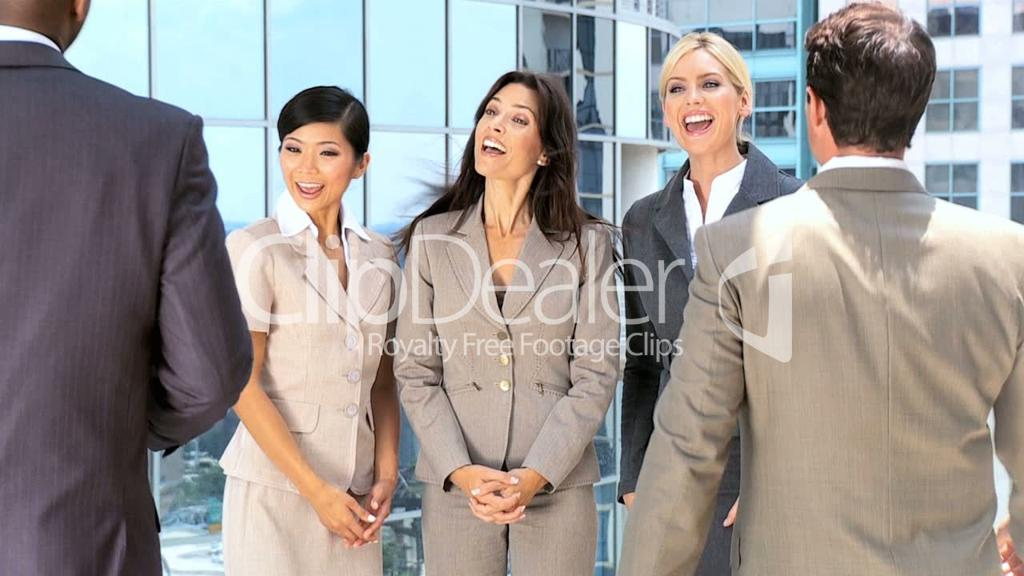face: (664, 48, 740, 148), (472, 84, 542, 180), (282, 124, 350, 210)
